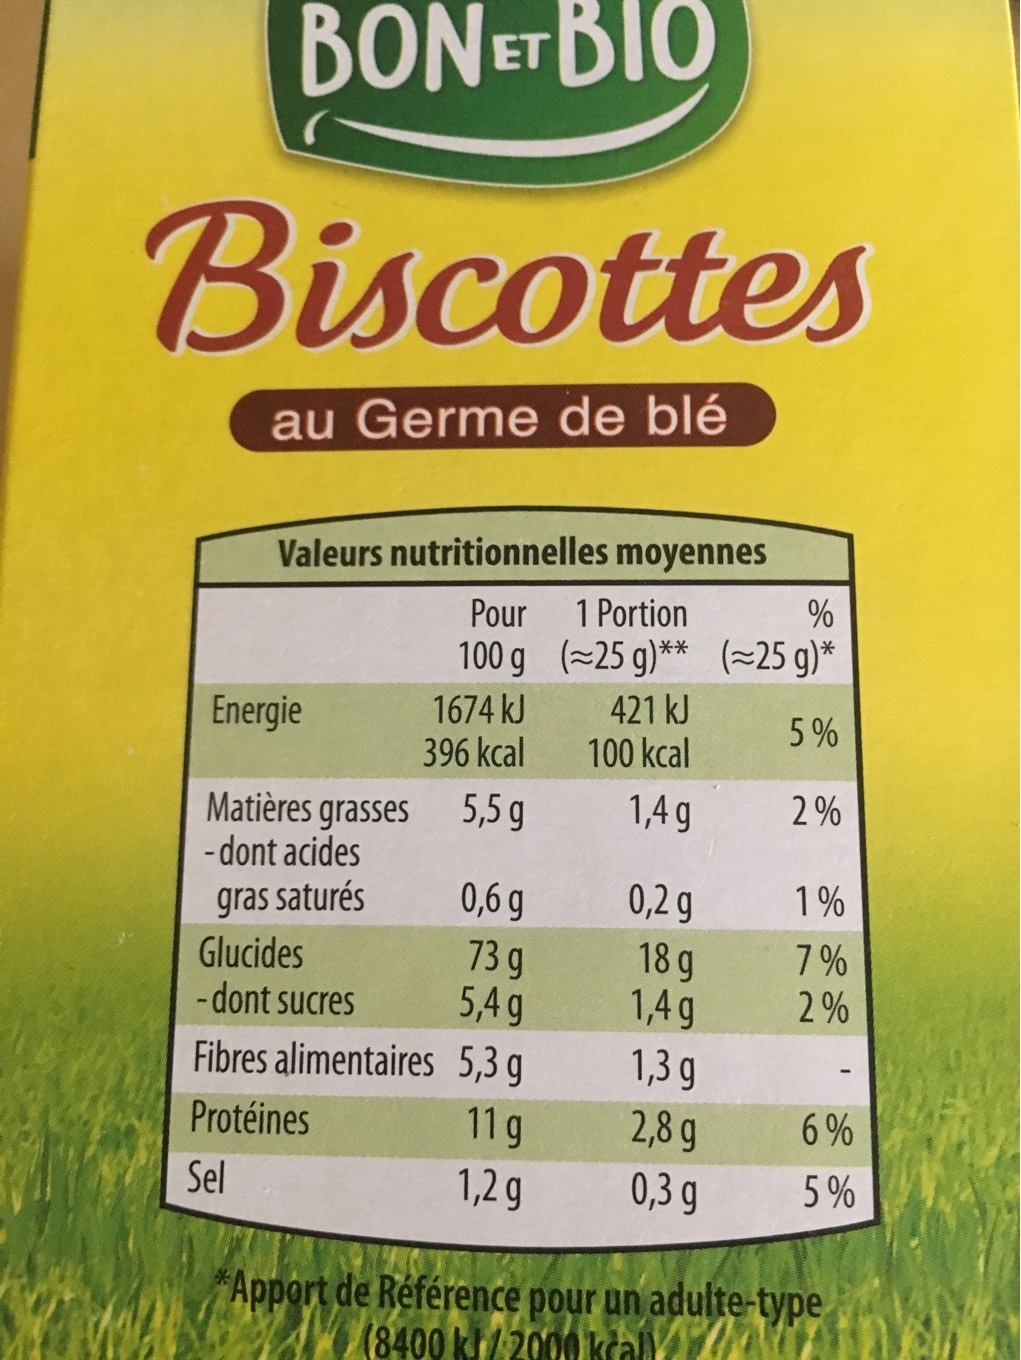column: (189, 690, 406, 1257), (558, 582, 701, 1257), (719, 583, 856, 1258), (424, 598, 529, 1209)
table: (161, 504, 884, 1258)
